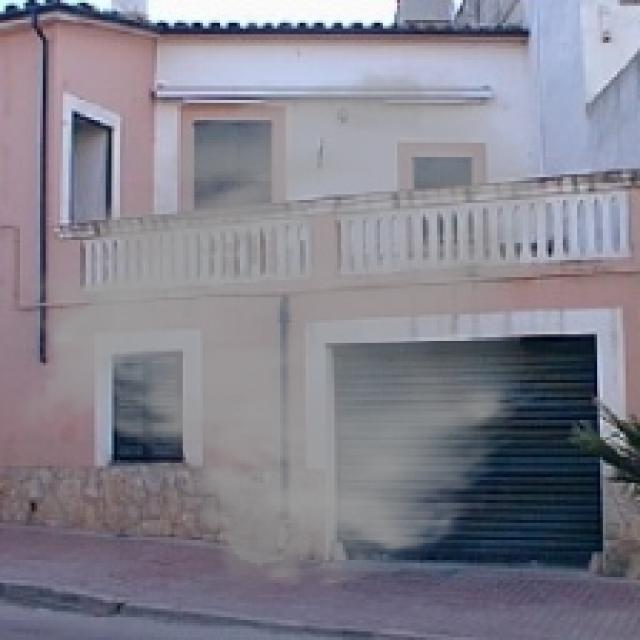Smoke: (11, 59, 560, 592)
